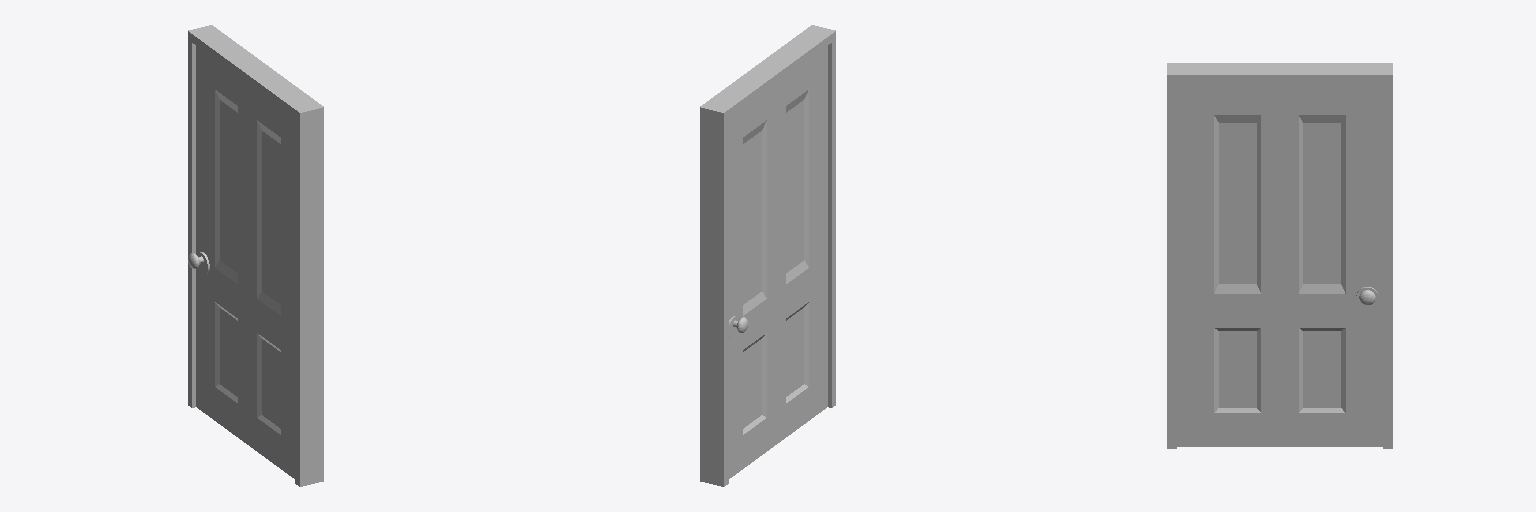
File: PuertaPequeña.obj
3 renders of one model, left to right at view 1: azimuth 30°, elevation 25°; view 2: azimuth 150°, elevation 25°; view 3: azimuth 270°, elevation 25°, orthographic.
Parts seen in each view (by area): view 1: Cube.001_Cube.002, Cube_Cube.001; view 2: Cube.001_Cube.002, Cube_Cube.001; view 3: Cube.001_Cube.002, Cube_Cube.001.
Boxes of the visible parts, x1,y1,x2,y2 form: Cube.001_Cube.002: [196, 46, 294, 478]; Cube_Cube.001: [188, 25, 323, 486]; Cube.001_Cube.002: [729, 46, 827, 478]; Cube_Cube.001: [700, 25, 835, 486]; Cube.001_Cube.002: [1177, 83, 1382, 446]; Cube_Cube.001: [1167, 63, 1392, 448].
Size of the model in its own units: 0.2761 by 2.2 by 1.2.